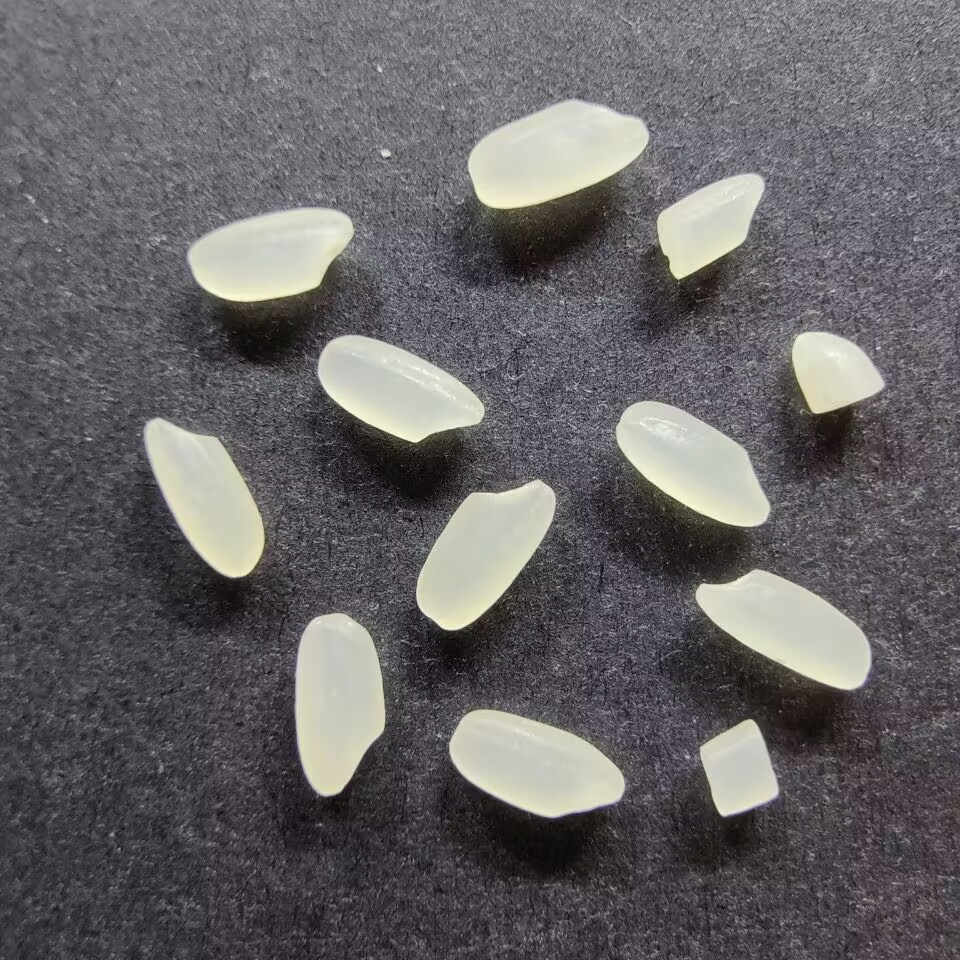broken: (655, 172, 766, 280), (788, 329, 887, 415), (696, 718, 781, 818)
rice: (693, 566, 873, 691), (413, 477, 556, 631), (466, 96, 650, 210), (141, 414, 267, 580), (616, 399, 773, 530), (446, 706, 626, 819), (315, 334, 487, 444), (294, 610, 384, 800), (184, 206, 354, 302)
